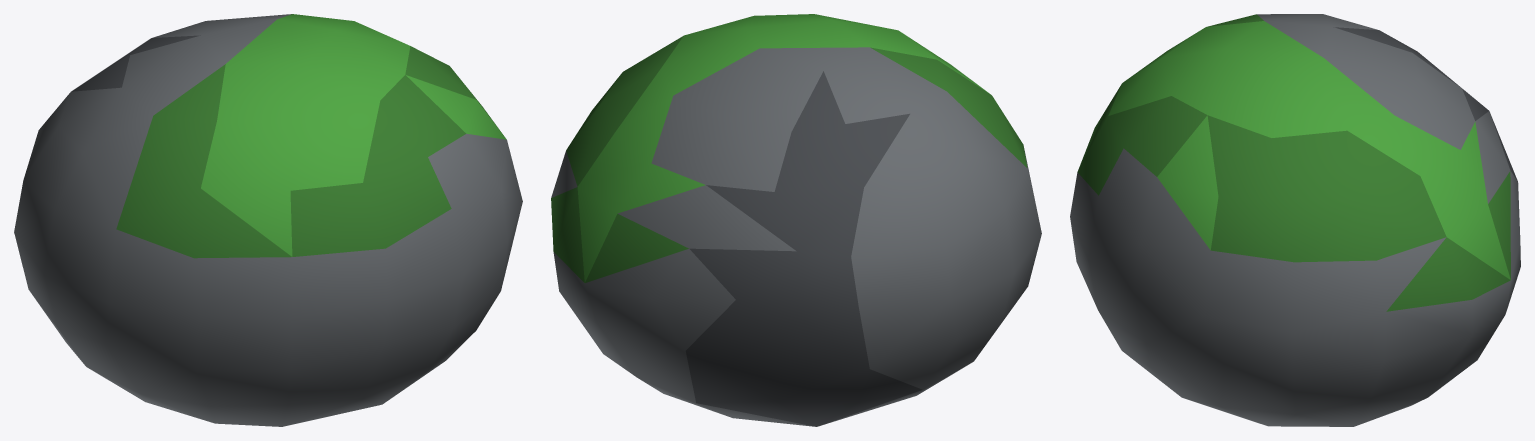
File: mossy_rock_a.glb
3 views of the same model, side by side, from view 1: azimuth 30°, elevation 25°; view 2: azimuth 150°, elevation 25°; view 3: azimuth 270°, elevation 25° (orthographic). The views are drawn at different scales.
Parts seen in each view (by area): view 1: mossy_rock_a; view 2: mossy_rock_a; view 3: mossy_rock_a.
Part boxes in pixels (bbox=[...]): mossy_rock_a: bbox=[14, 14, 522, 426]; mossy_rock_a: bbox=[551, 14, 1041, 426]; mossy_rock_a: bbox=[1070, 14, 1520, 426].
Size of the model in its own units: 1.16 by 0.83 by 1.05.
